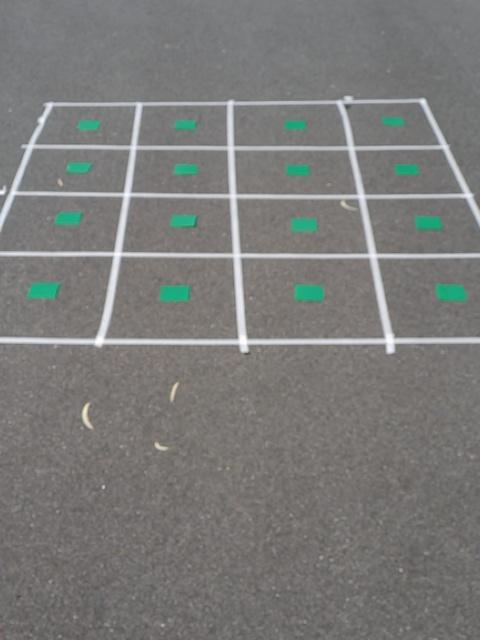weed: (433, 279, 468, 306), (26, 279, 61, 302), (158, 282, 190, 306), (167, 211, 199, 232), (73, 116, 106, 134), (290, 214, 316, 236), (52, 210, 84, 227), (296, 281, 323, 300), (64, 158, 90, 176), (413, 216, 444, 231), (170, 163, 200, 178), (283, 162, 309, 179), (393, 162, 418, 178), (172, 117, 194, 133), (283, 117, 303, 133), (383, 114, 404, 129)
